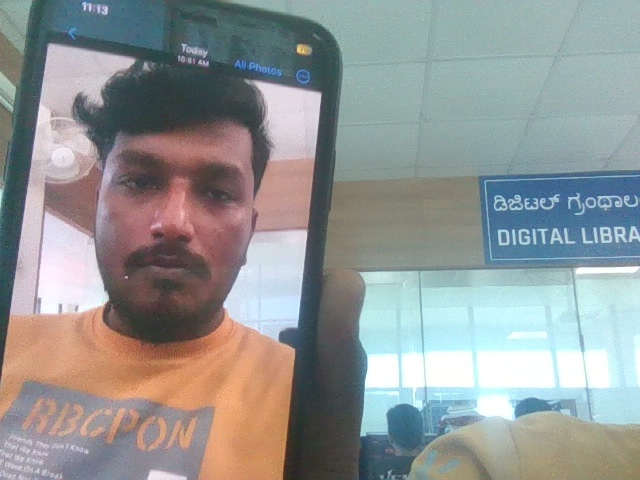fake: (68, 32, 288, 344)
